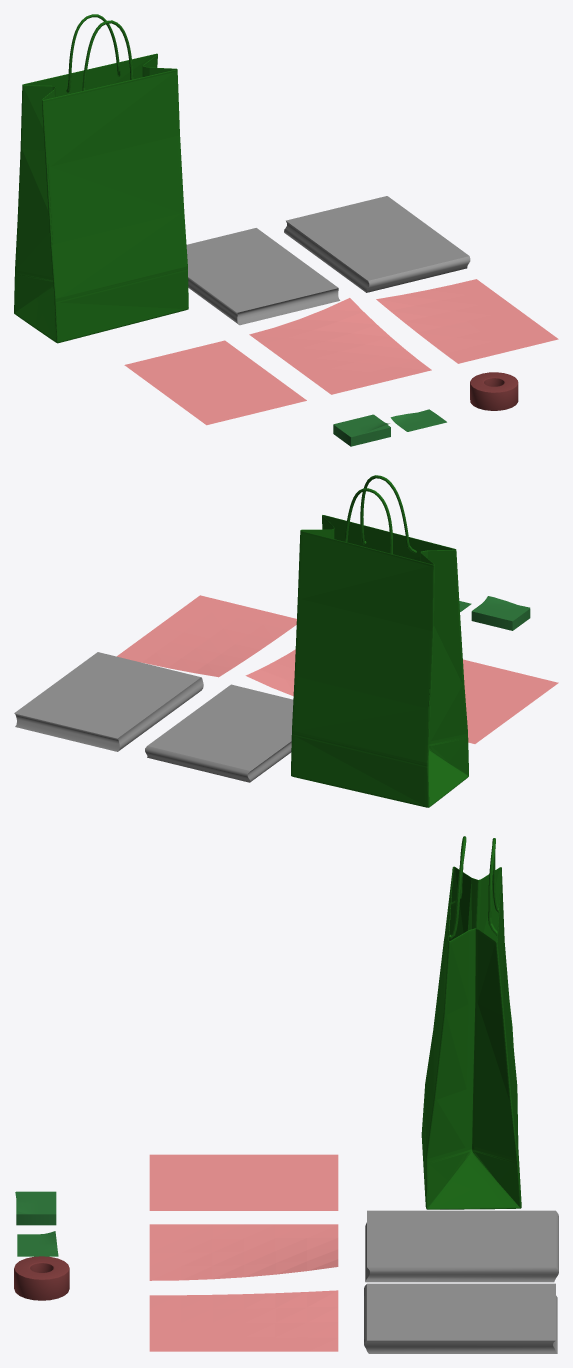
Rendered from PapperStuff_D180306.fbx.
3 renders of one model, top to bottom at view 1: azimuth 30°, elevation 25°; view 2: azimuth 150°, elevation 25°; view 3: azimuth 270°, elevation 25°, orthographic. The views are drawn at different scales.
Parts seen in each view (by area): view 1: Paperbags_N1, papperSET_002, papperSET_1, papper_N002, papper_N003, papper_N1, PaperTape_N1, Sticky_N1, Sticky_N2; view 2: Paperbags_N1, papperSET_002, papperSET_1, papper_N003, papper_N1, Sticky_N1, papper_N002; view 3: Paperbags_N1, papperSET_1, papperSET_002, papper_N003, papper_N1, papper_N002, PaperTape_N1, Sticky_N1, Sticky_N2.
Part boxes in pixels (left/top/right/bottom): Paperbags_N1: left=14, top=14, right=188, bottom=343; papperSET_002: left=284, top=196, right=470, bottom=292; papperSET_1: left=186, top=228, right=340, bottom=325; papper_N002: left=249, top=298, right=431, bottom=394; papper_N003: left=376, top=279, right=558, bottom=363; papper_N1: left=124, top=340, right=306, bottom=425; PaperTape_N1: left=470, top=372, right=518, bottom=410; Sticky_N1: left=333, top=414, right=390, bottom=446; Sticky_N2: left=390, top=409, right=446, bottom=431; Paperbags_N1: left=291, top=475, right=468, bottom=807; papperSET_002: left=14, top=652, right=203, bottom=751; papperSET_1: left=145, top=684, right=293, bottom=782; papper_N003: left=117, top=595, right=296, bottom=677; papper_N1: left=463, top=659, right=558, bottom=743; Sticky_N1: left=471, top=596, right=530, bottom=630; papper_N002: left=245, top=649, right=295, bottom=696; Paperbags_N1: left=421, top=836, right=521, bottom=1209; papperSET_1: left=365, top=1210, right=558, bottom=1282; papperSET_002: left=364, top=1283, right=557, bottom=1353; papper_N003: left=149, top=1290, right=338, bottom=1351; papper_N1: left=149, top=1154, right=338, bottom=1210; papper_N002: left=149, top=1224, right=338, bottom=1280; PaperTape_N1: left=14, top=1256, right=69, bottom=1300; Sticky_N1: left=15, top=1191, right=56, bottom=1225; Sticky_N2: left=17, top=1231, right=58, bottom=1256.
Size of the model in its own units: 32.02 by 33.76 by 23.09.
